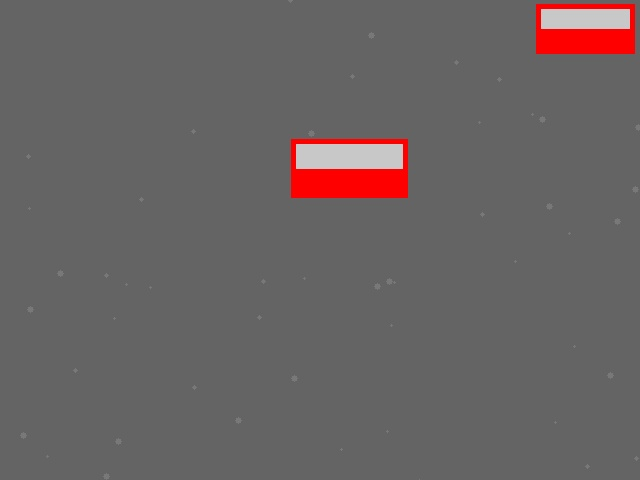car: (291, 139, 407, 197), (536, 4, 634, 53)
